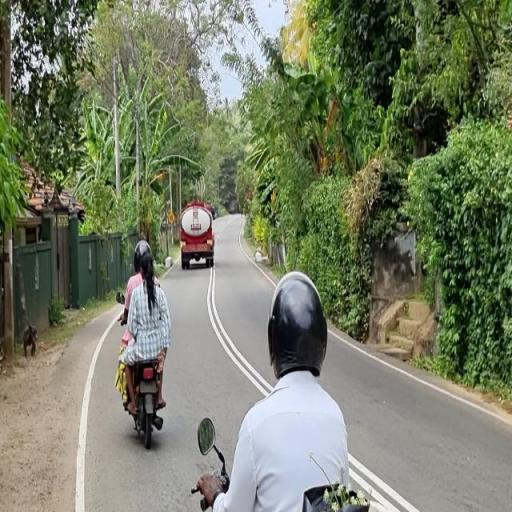double_white_line: (347, 450, 421, 511)
